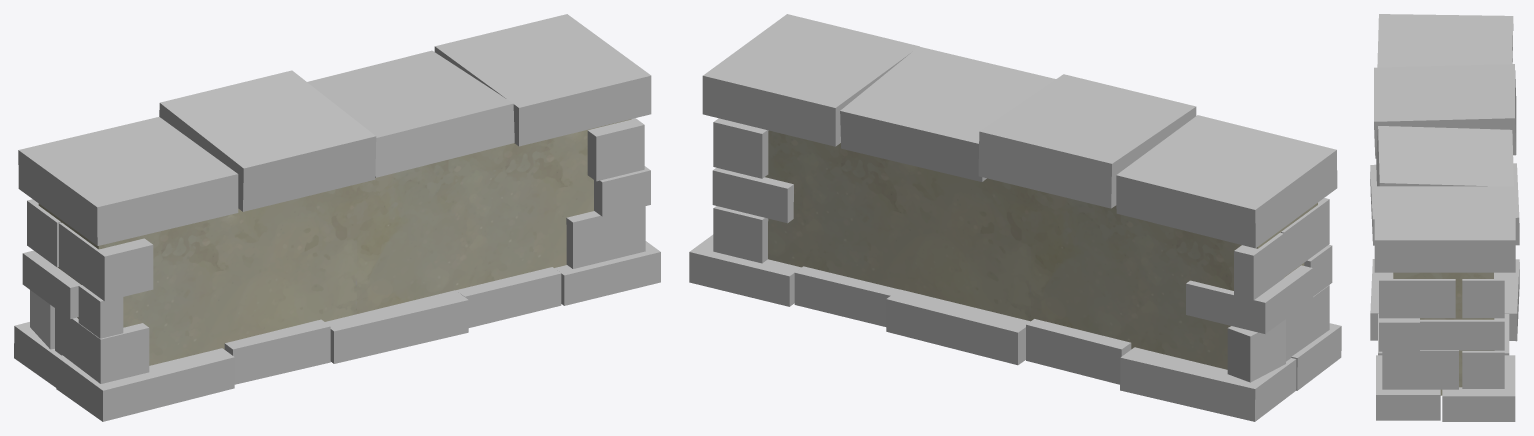
The model's file is A_SmallWall_A.fbx.
The picture shows the model from 3 angles, left to right: view 1: azimuth 30°, elevation 25°; view 2: azimuth 150°, elevation 25°; view 3: azimuth 270°, elevation 25°; orthographic projection. The views are drawn at different scales.
Visible parts, largest first — view 1: A_SmallWall_A_KitPart, A_SmallWall_A; view 2: A_SmallWall_A_KitPart, A_SmallWall_A; view 3: A_SmallWall_A_KitPart, A_SmallWall_A.
Boxes of the visible parts, x1=… form: A_SmallWall_A_KitPart: x1=14, y1=14, x2=660, y2=421; A_SmallWall_A: x1=38, y1=119, x2=631, y2=365; A_SmallWall_A_KitPart: x1=689, y1=14, x2=1341, y2=421; A_SmallWall_A: x1=765, y1=130, x2=1317, y2=369; A_SmallWall_A_KitPart: x1=1370, y1=14, x2=1519, y2=421; A_SmallWall_A: x1=1393, y1=272, x2=1494, y2=395.
Bounding box in the file's own units: 272 × 102 × 74.31.
